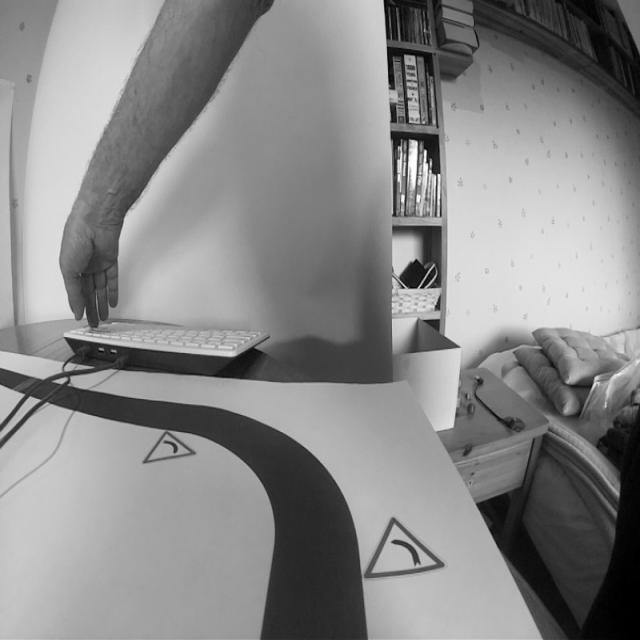laneLeftTurn: (236, 429, 372, 640)
